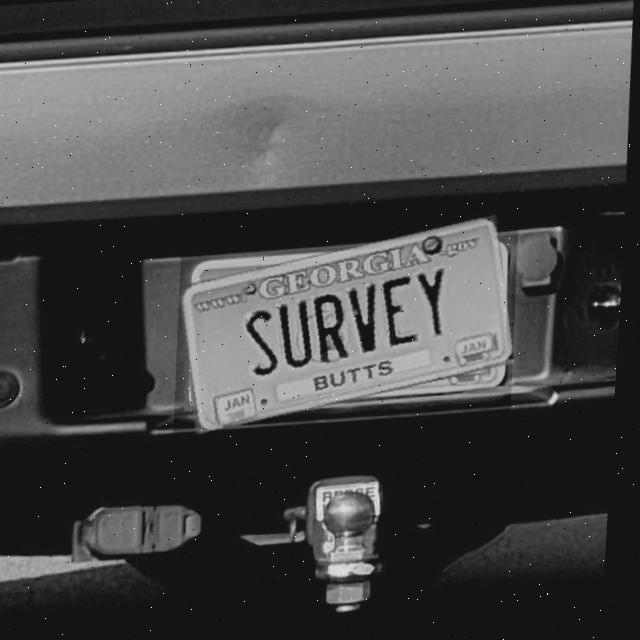LicensePlate: (183, 219, 517, 437)
